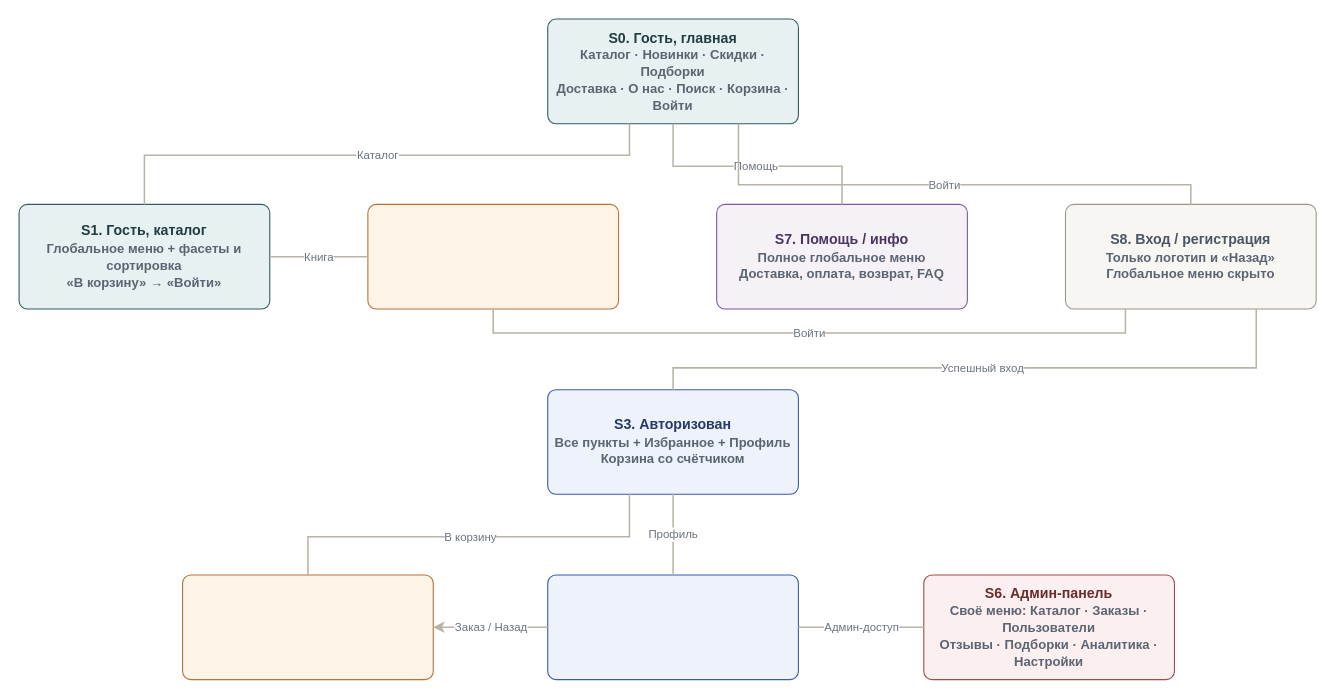
Some shapes in this 1335 by 699 pixel diagram are drawn without their labels. Each missing label, with the centre of its shape:
S2. Гость, книга Избранное и «Купить сейчас» просят вход Корзина доступна: the point at 493,256
S4. Корзина / checkout Меню и footer скрыты Степпер 1 → 2 → 3 → 4, «Назад»: the point at 307,627
S5. Личный кабинет Табы: Профиль · Адреса · Заказы Избранное · Отзывы · Подписки: the point at 672,627
